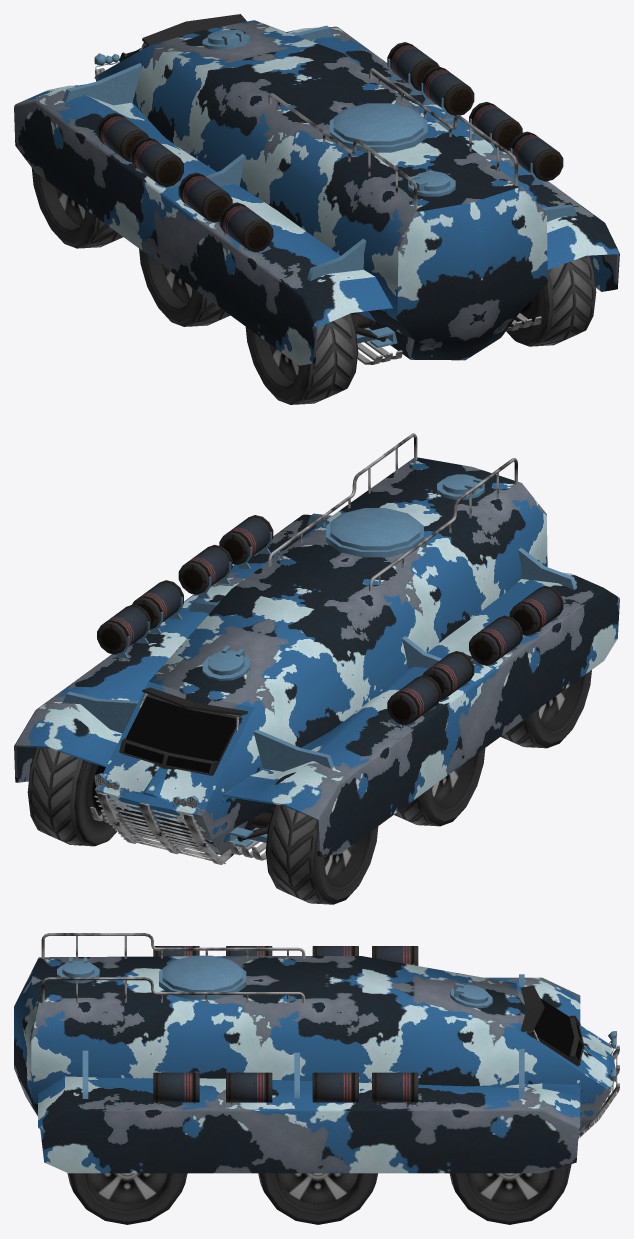
Rendered from btr.glb.
3 renders of one model, top to bottom at view 1: azimuth 30°, elevation 25°; view 2: azimuth 150°, elevation 25°; view 3: azimuth 270°, elevation 25°, orthographic. The views are drawn at different scales.
Visible parts, largest first — view 1: body, fenders, wheel_l03, wheel_r03, addons, wheel_l01, wheel_l02, hatch_back; view 2: body, fenders, addons, wheel_l01, wheel_r01, wheel_l03, wheel_l02, hatch_front, hatch_back; view 3: body, fenders, wheel_r01, wheel_r03, wheel_r02, addons, hatch_front, hatch_back.
Boxes of the visible parts, box(x1,y1,x2,y2) form: body: box(94, 14, 547, 364); fenders: box(14, 25, 619, 365); wheel_l03: box(245, 313, 358, 404); wheel_r03: box(506, 255, 596, 346); addons: box(94, 34, 455, 196); wheel_l01: box(31, 168, 123, 248); wheel_l02: box(139, 248, 230, 326); hatch_back: box(409, 171, 449, 191); body: box(90, 433, 547, 860); fenders: box(14, 513, 619, 856); addons: box(94, 479, 484, 864); wheel_l01: box(265, 804, 378, 904); wheel_r01: box(27, 747, 116, 846); wheel_l03: box(500, 670, 591, 748); wheel_l02: box(394, 748, 485, 826); hatch_front: box(208, 645, 244, 675); hatch_back: box(442, 474, 483, 494); body: box(14, 933, 616, 1130); fenders: box(38, 946, 580, 1173); wheel_r01: box(449, 1164, 571, 1224); wheel_r03: box(67, 1173, 187, 1224); wheel_r02: box(258, 1173, 377, 1224); addons: box(57, 955, 619, 1138); hatch_front: box(454, 983, 488, 1003); hatch_back: box(62, 957, 94, 977).
Bounding box in the file's own units: 4.13 × 2.91 × 7.6.
1 material, 1 textured.
